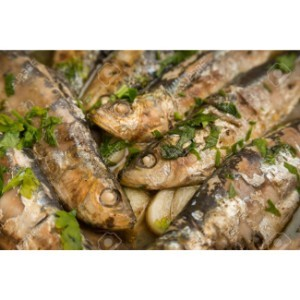sardine_brain food: (26, 74, 277, 233)
